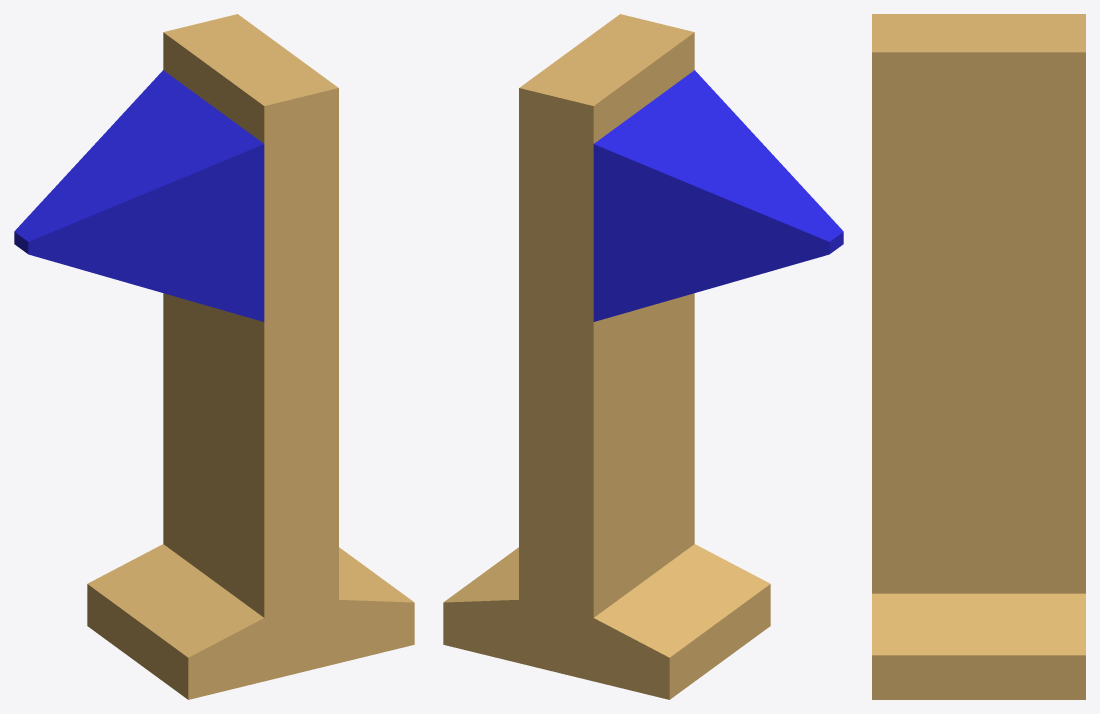
Rendered from Finish Flag.fbx.
3 renders of one model, left to right at view 1: azimuth 30°, elevation 25°; view 2: azimuth 150°, elevation 25°; view 3: azimuth 270°, elevation 25°, orthographic. The views are drawn at different scales.
Visible parts, largest first — view 1: Cube.001; view 2: Cube.001; view 3: Cube.001.
Part boxes in pixels (bbox=[...]): Cube.001: bbox=[14, 14, 414, 699]; Cube.001: bbox=[443, 14, 843, 699]; Cube.001: bbox=[872, 14, 1085, 699].
Size of the model in its own units: 0.3917 by 0.6279 by 0.2.
